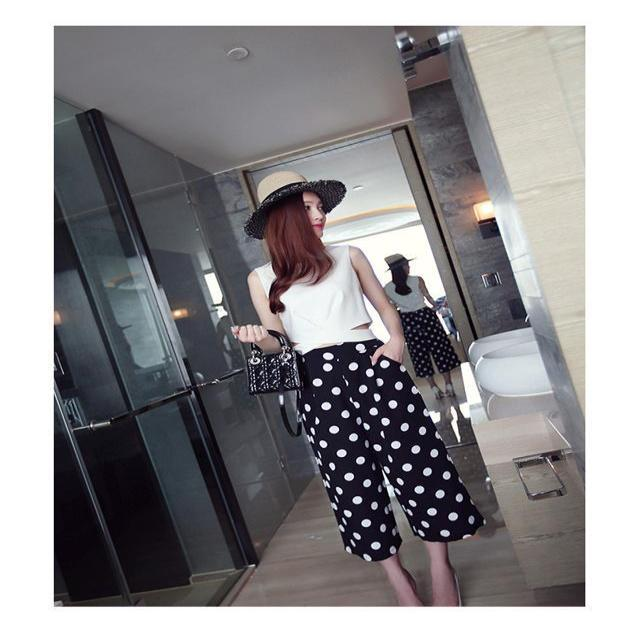trousers: (295, 334, 487, 550), (402, 306, 461, 377)
vest: (257, 246, 378, 355), (384, 276, 426, 312)
